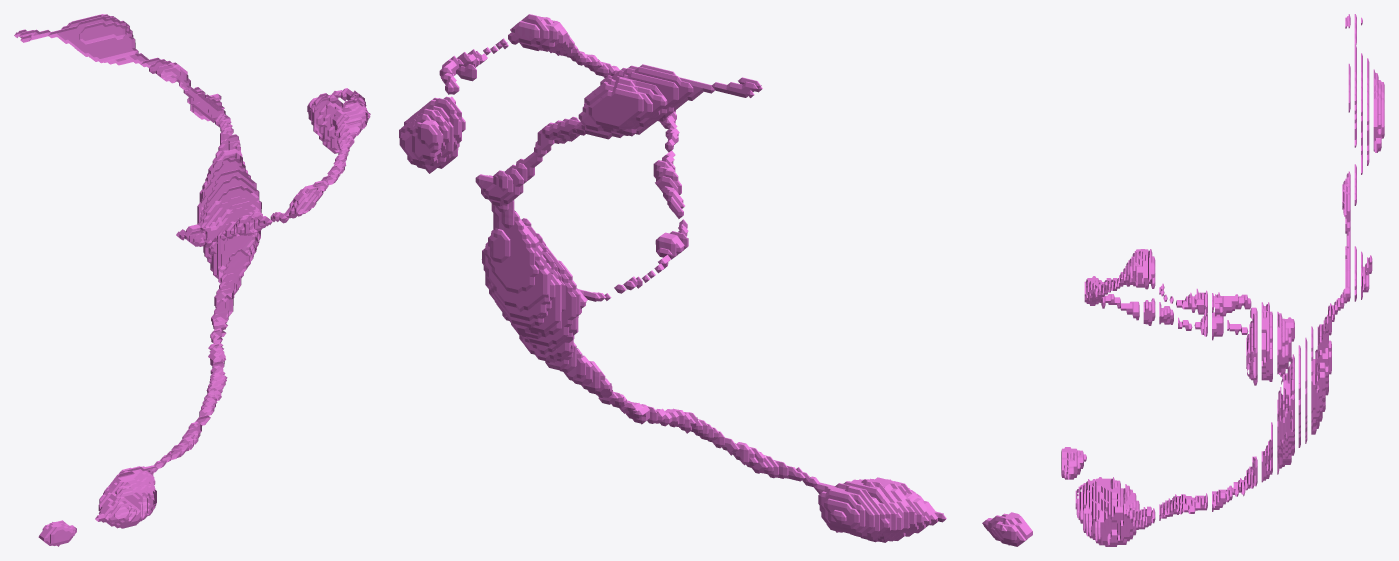
File: SVV_OLLR.gltf
The picture shows the model from 3 angles, left to right: view 1: azimuth 30°, elevation 25°; view 2: azimuth 150°, elevation 25°; view 3: azimuth 270°, elevation 25°; orthographic projection. The views are drawn at different scales.
Visible parts, largest first — view 1: OLLR; view 2: OLLR; view 3: OLLR.
Part boxes in pixels (<box>): OLLR: <box>14,14,370,546</box>; OLLR: <box>399,14,1032,546</box>; OLLR: <box>1061,14,1384,546</box>.
Bounding box in the file's own units: 69151 × 71203 × 40071.
